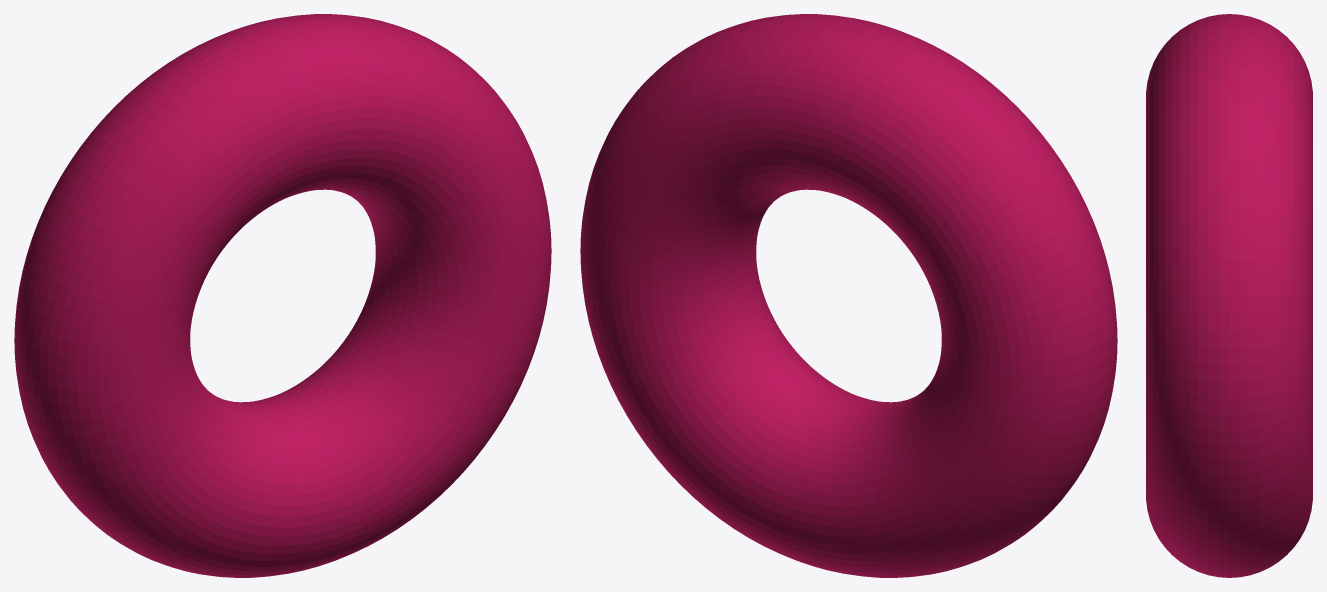
The picture shows the model from 3 angles, left to right: view 1: azimuth 30°, elevation 25°; view 2: azimuth 150°, elevation 25°; view 3: azimuth 270°, elevation 25°; orthographic projection. The views are drawn at different scales.
Parts seen in each view (by area): view 1: world; view 2: world; view 3: world.
Part boxes in pixels (x1,y1,x2,y2): world: (14, 14, 551, 577); world: (580, 14, 1117, 577); world: (1146, 14, 1312, 577).
Bounding box in the file's own units: 26.53 × 26.53 × 7.85.
